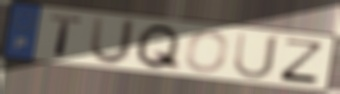O: (182, 29, 231, 74)
Q: (132, 23, 184, 73)
T: (50, 13, 85, 60)
U: (86, 15, 140, 68), (231, 30, 281, 81)
Z: (277, 37, 327, 86)
